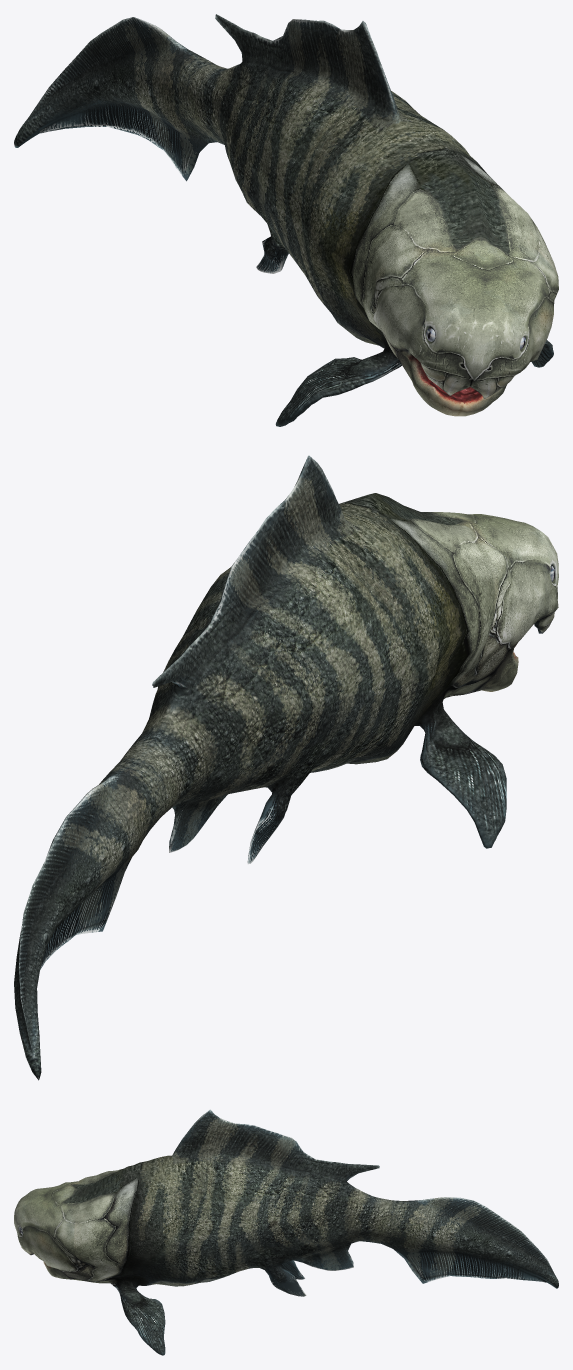
File: dunkleosteus.glb
The picture shows the model from 3 angles, top to bottom: view 1: azimuth 30°, elevation 25°; view 2: azimuth 150°, elevation 25°; view 3: azimuth 270°, elevation 25°; orthographic projection. The views are drawn at different scales.
Parts seen in each view (by area): view 1: Object_4; view 2: Object_4; view 3: Object_4.
Part boxes in pixels (x1=…): Object_4: x1=14, y1=14, x2=558, y2=426; Object_4: x1=14, y1=455, x2=558, y2=1080; Object_4: x1=14, y1=1109, x2=558, y2=1355.
Size of the model in its own units: 0.2901 by 0.3689 by 0.8798.
1 material, 1 textured.
